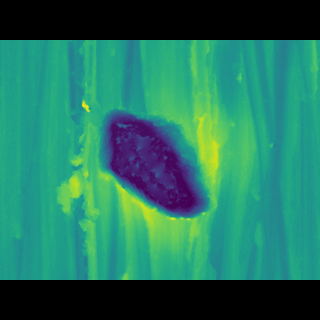Loch: (236, 69, 320, 251), (86, 119, 220, 207), (57, 70, 97, 250)
